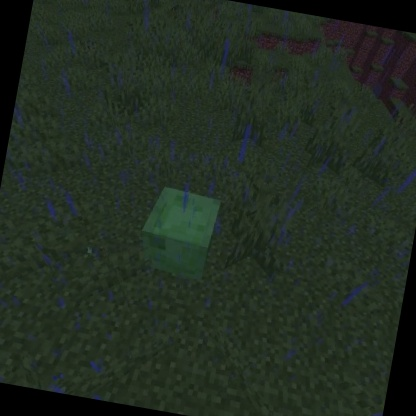slime: (130, 180, 227, 287)
